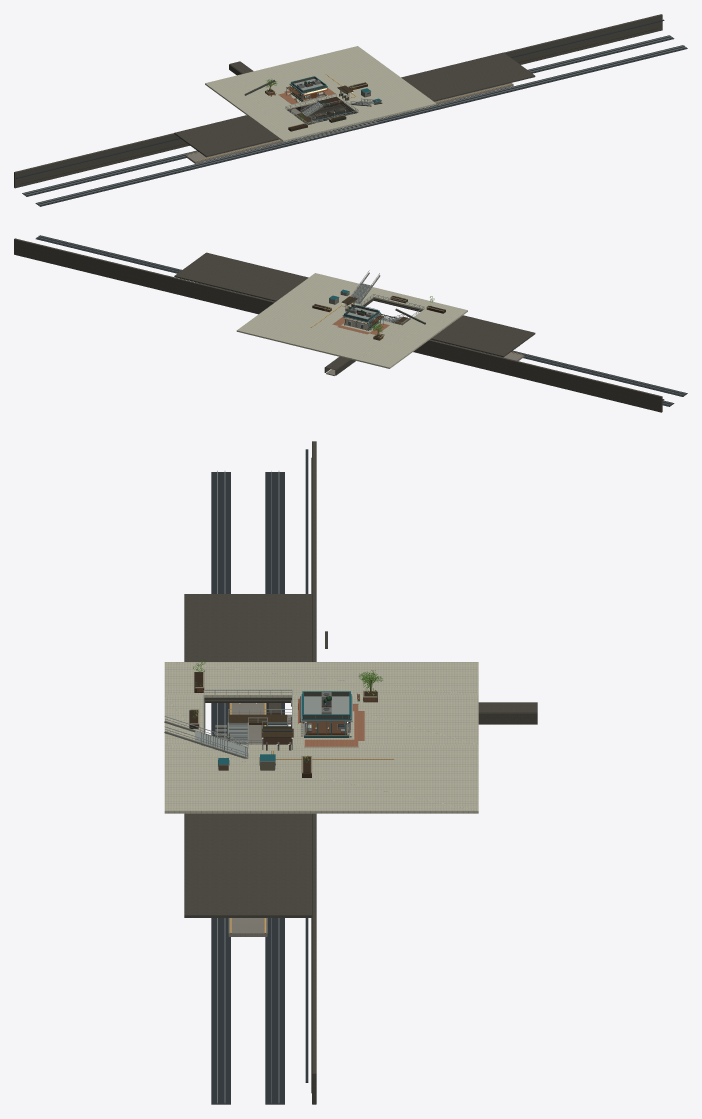
Rendered from cafe.glb.
3 renders of one model, top to bottom at view 1: azimuth 30°, elevation 25°; view 2: azimuth 150°, elevation 25°; view 3: azimuth 270°, elevation 25°, orthographic. The views are drawn at different scales.
Visible parts, largest first — view 1: map-part-669f077c7133, map-part-8a0496f8e413, map-part-2ce4b40dea6e, map-part-c2f8eaa49ca2, map-part-99b7bf501c1c, map-part-61e686473cea, map-part-69a007c98d85, map-part-ab8c991cca38, map-part-b8a432a2781c, map-part-f951be93cfdc, map-part-fd53f3b5cdab, map-part-fe5a58b1b535 (+4 smaller); view 2: map-part-669f077c7133, map-part-8a0496f8e413, map-part-c2f8eaa49ca2, map-part-99b7bf501c1c, map-part-61e686473cea, map-part-ab8c991cca38, map-part-2ce4b40dea6e, map-part-7e4b638ff456, map-part-fd53f3b5cdab, map-part-f951be93cfdc; view 3: map-part-8a0496f8e413, map-part-c2f8eaa49ca2, map-part-99b7bf501c1c, map-part-61e686473cea, map-part-2ce4b40dea6e, map-part-ab8c991cca38, map-part-69a007c98d85, map-part-669f077c7133, map-part-7e4b638ff456, map-part-b8a432a2781c, map-part-fe5a58b1b535.
Part boxes in pixels (x1,y1,x2,y2): map-part-669f077c7133: (14,14,662,188); map-part-8a0496f8e413: (290,46,436,121); map-part-2ce4b40dea6e: (35,45,687,206); map-part-c2f8eaa49ca2: (342,52,535,113); map-part-99b7bf501c1c: (205,75,317,141); map-part-61e686473cea: (174,115,279,157); map-part-69a007c98d85: (22,35,674,196); map-part-ab8c991cca38: (239,62,335,109); map-part-b8a432a2781c: (185,83,513,163); map-part-f951be93cfdc: (36,45,684,203); map-part-fd53f3b5cdab: (39,47,686,205); map-part-fe5a58b1b535: (16,19,664,178); map-part-669f077c7133: (14,238,662,412); map-part-8a0496f8e413: (236,273,382,348); map-part-c2f8eaa49ca2: (174,252,373,306); map-part-99b7bf501c1c: (355,302,467,368); map-part-61e686473cea: (430,315,535,357); map-part-ab8c991cca38: (304,318,401,360); map-part-2ce4b40dea6e: (35,235,687,396); map-part-7e4b638ff456: (373,289,433,309); map-part-fd53f3b5cdab: (39,235,686,393); map-part-f951be93cfdc: (36,237,684,395); map-part-8a0496f8e413: (164,744,478,813); map-part-c2f8eaa49ca2: (184,813,311,917); map-part-99b7bf501c1c: (164,662,478,697); map-part-61e686473cea: (184,594,311,700); map-part-2ce4b40dea6e: (211,472,230,1104); map-part-ab8c991cca38: (292,695,478,744); map-part-69a007c98d85: (265,472,284,1104); map-part-669f077c7133: (312,441,316,1104); map-part-7e4b638ff456: (164,695,203,744); map-part-b8a432a2781c: (228,703,267,936); map-part-fe5a58b1b535: (305,449,308,1082).
Size of the model in its own units: 168 by 10.29 by 41.83.
70 materials, 39 textured.
